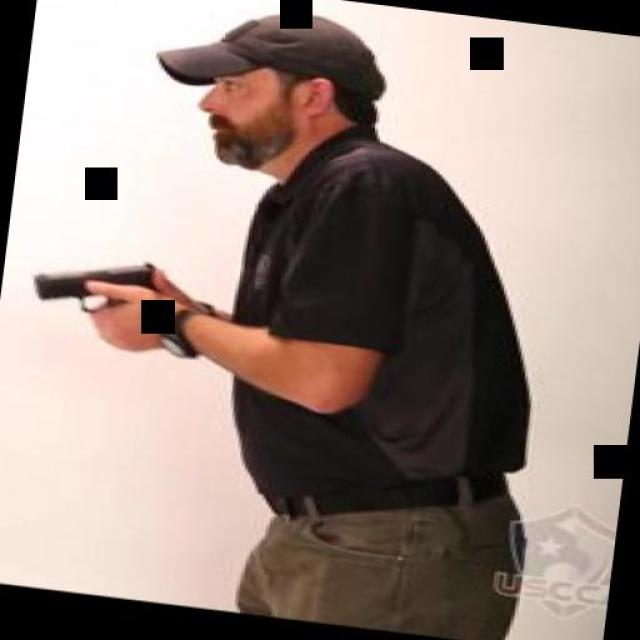gun: (19, 244, 189, 352)
